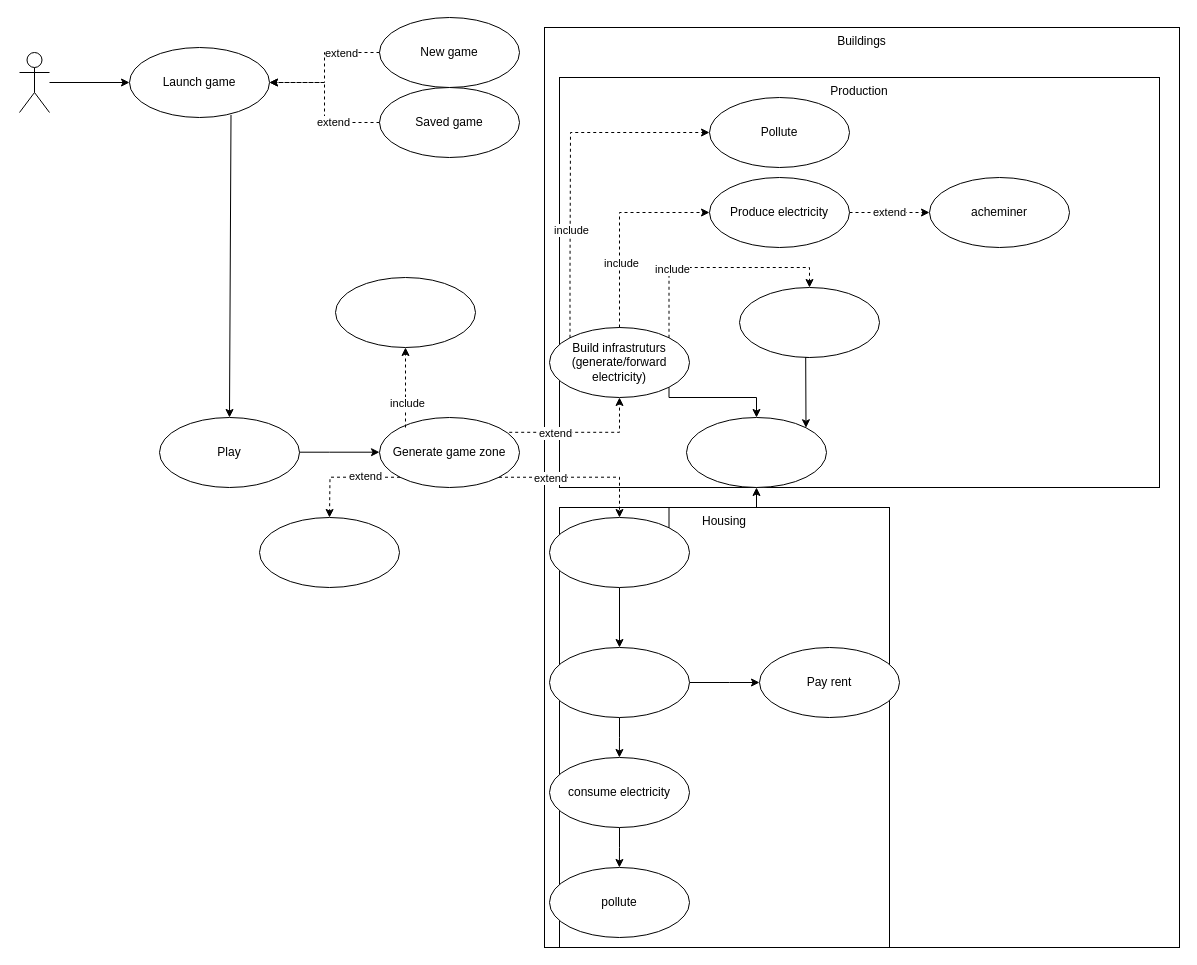
This 1197x965 diagram has some shape labels left out. The centre of each missing label's shape, as x and y in pixels:
"Build houses" belongs at (619,552).
"Check out building informations" belongs at (329,552).
"Destroy" belongs at (809,322).
"Génère des cases" belongs at (405,312).
"move in" belongs at (619,682).
"Pay" belongs at (756,452).
"Player" belongs at (34,82).
